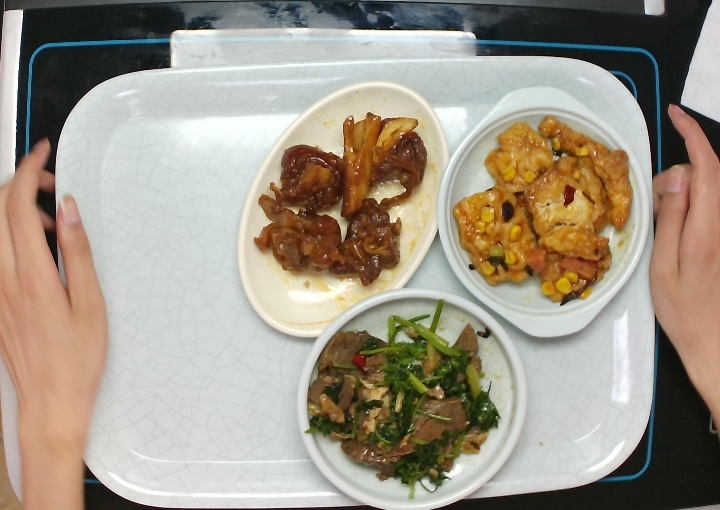JYsf-Shuang_Er_Pan: (435, 79, 653, 341)
JYsf-Tuo_Yuan_Wan: (236, 74, 451, 342)
JYsf-Xiao_Yuan_Pan: (294, 288, 532, 510)
